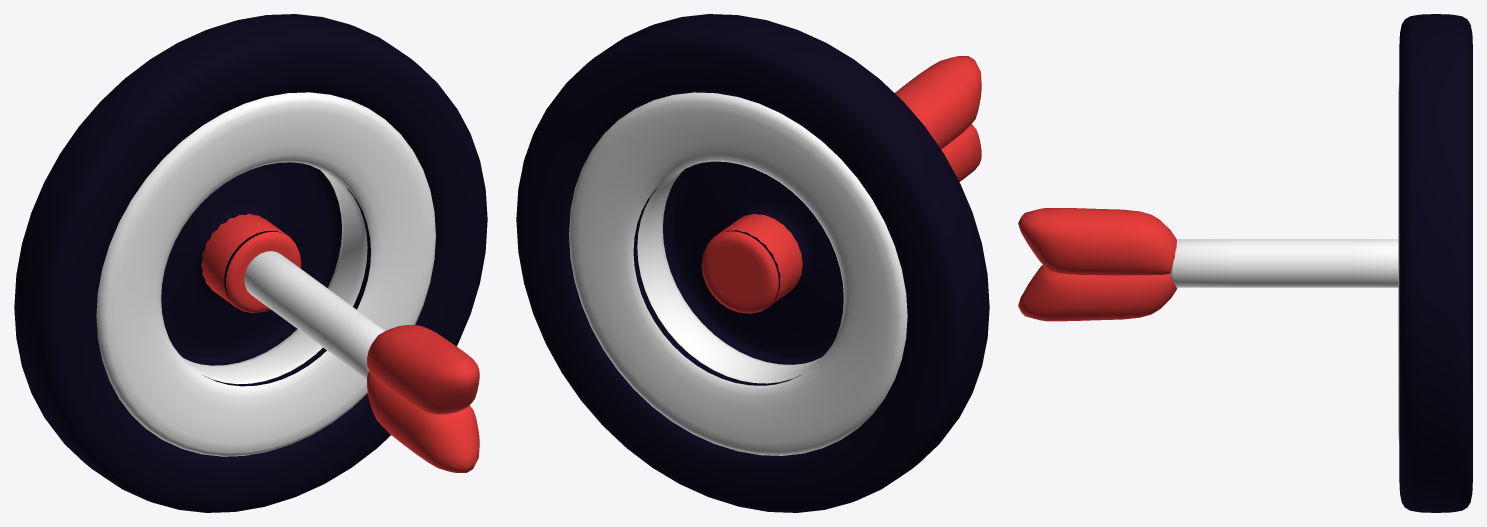
3 views of the same model, side by side, from view 1: azimuth 30°, elevation 25°; view 2: azimuth 150°, elevation 25°; view 3: azimuth 270°, elevation 25° (orthographic). The views are drawn at different scales.
Visible parts, largest first — view 1: 0012; view 2: 0012; view 3: 0012.
Boxes of the visible parts, x1=… form: 0012: x1=14, y1=14, x2=487, y2=512; 0012: x1=516, y1=14, x2=989, y2=512; 0012: x1=1018, y1=14, x2=1472, y2=512.
Size of the model in its own units: 1.91 by 1.91 by 1.74.
